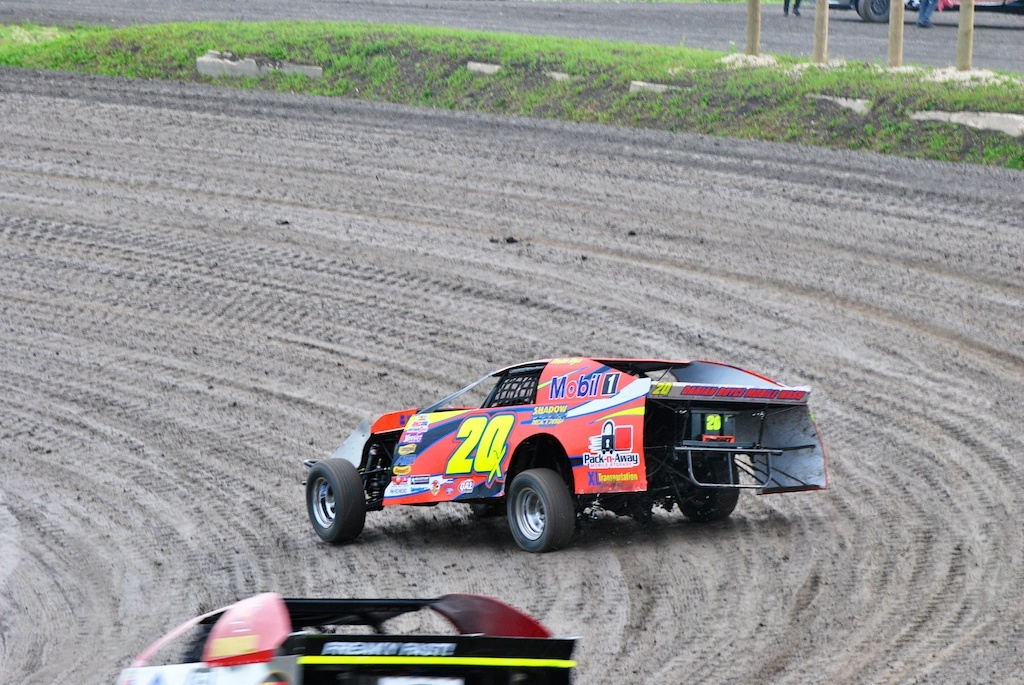cars: (300, 347, 831, 557), (105, 583, 579, 683)
